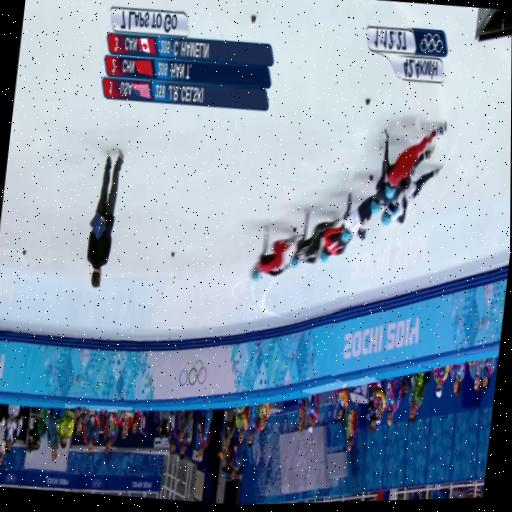Skater: (384, 123, 446, 197), (381, 168, 441, 226), (291, 210, 335, 267), (251, 226, 297, 279), (371, 162, 404, 213), (341, 193, 374, 242), (320, 219, 346, 261)
